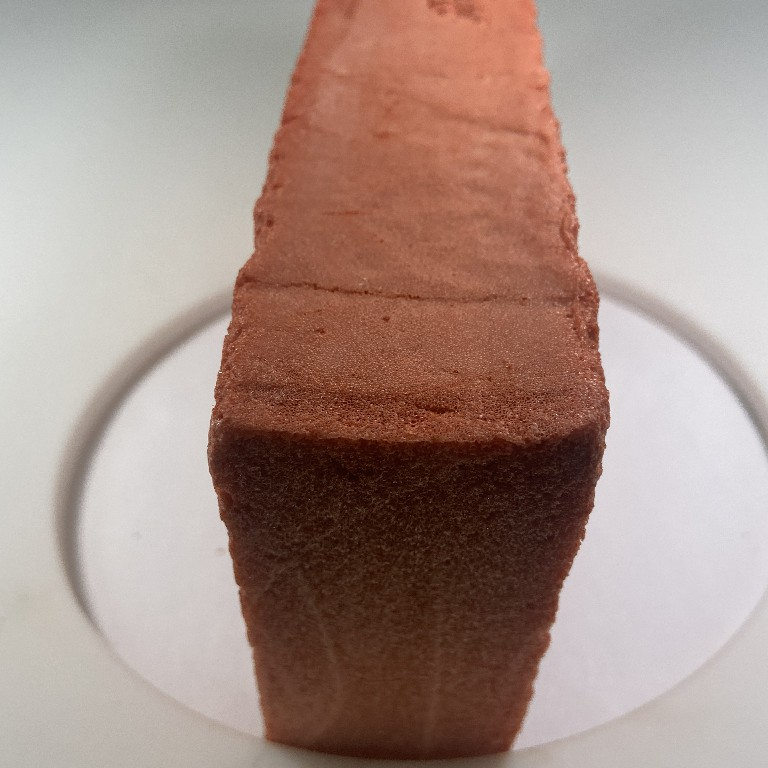brick: (207, 1, 616, 761)
